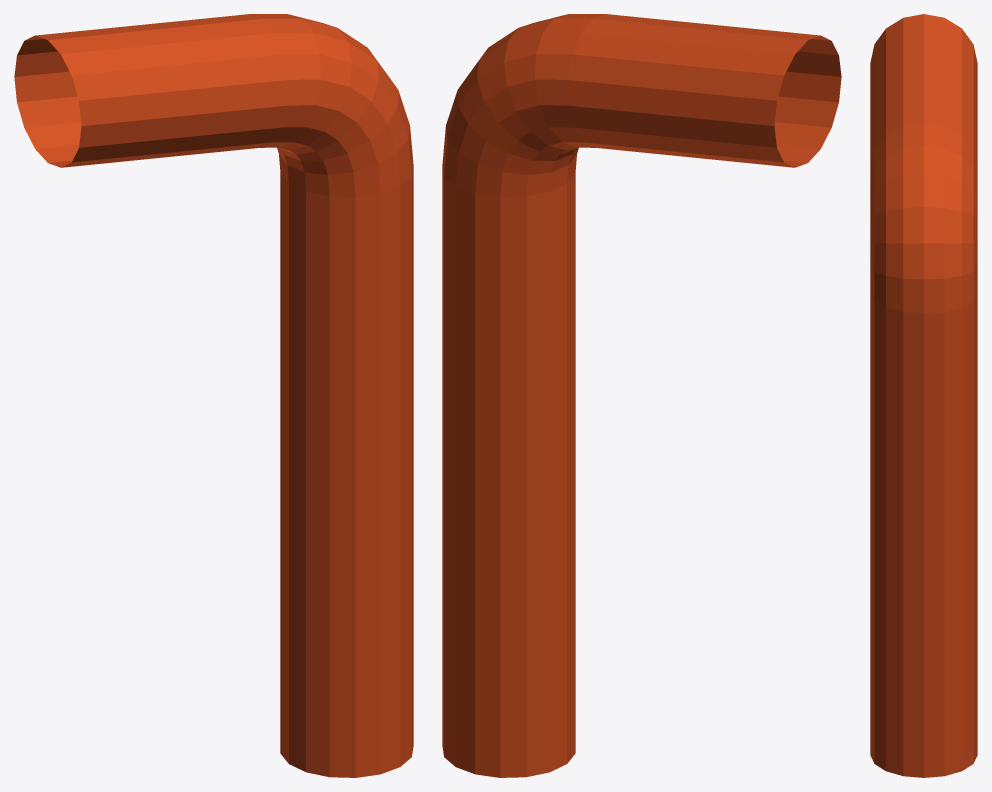
File: cell_87.obj
The picture shows the model from 3 angles, left to right: view 1: azimuth 30°, elevation 25°; view 2: azimuth 150°, elevation 25°; view 3: azimuth 270°, elevation 25°; orthographic projection. The views are drawn at different scales.
Bounding box in the file's own units: 0.215 × 0.4501 × 0.07.
